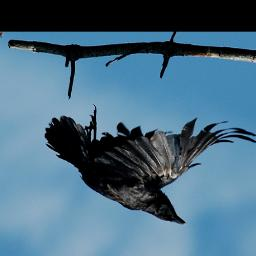Crow: (46, 103, 256, 227)
